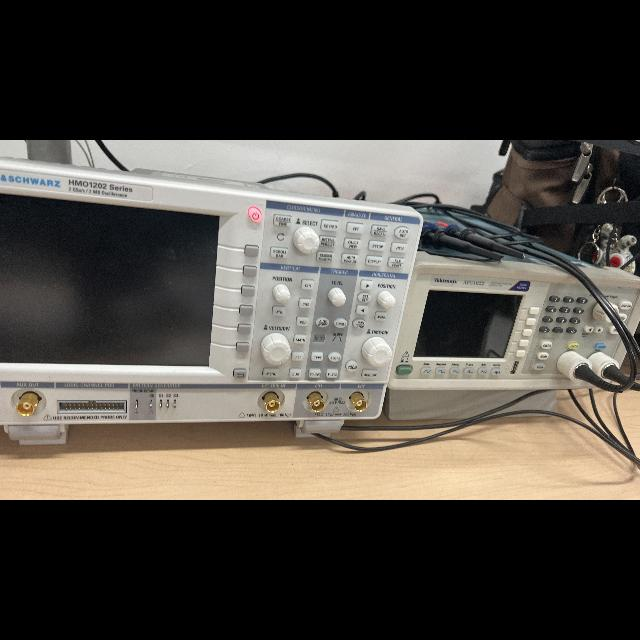Digital-Oscilloscope: (0, 158, 421, 445), (0, 158, 422, 444)
